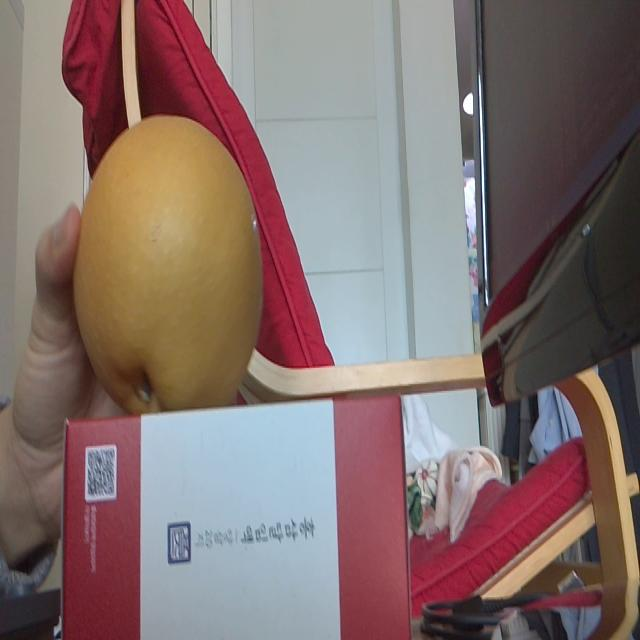pear: (72, 111, 262, 408)
